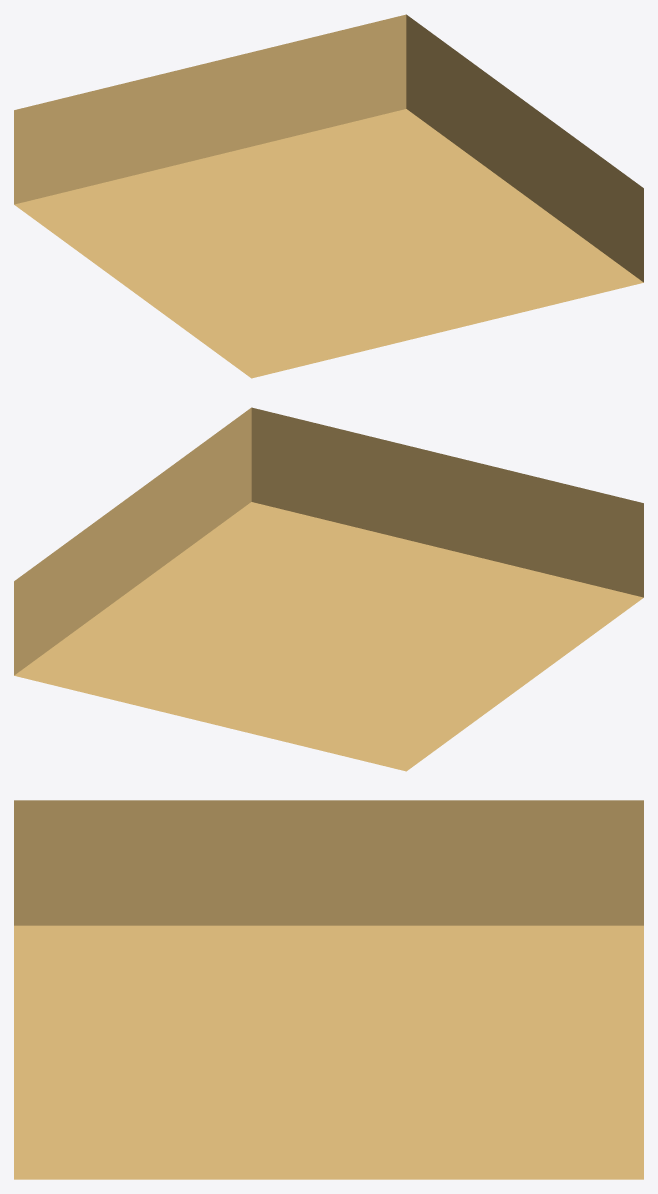
File: templates-navagraha-grid-006.glb
3 views of the same model, one above another, from view 1: azimuth 30°, elevation 25°; view 2: azimuth 150°, elevation 25°; view 3: azimuth 270°, elevation 25° (orthographic). The views are drawn at different scales.
Parts seen in each view (by area): view 1: Navagraha Grid Templates; view 2: Navagraha Grid Templates; view 3: Navagraha Grid Templates.
Part boxes in pixels (bbox=[...]): Navagraha Grid Templates: bbox=[14, 14, 643, 378]; Navagraha Grid Templates: bbox=[14, 407, 643, 771]; Navagraha Grid Templates: bbox=[14, 800, 643, 1179].
Size of the model in its own units: 4.35 by 1 by 4.56.
